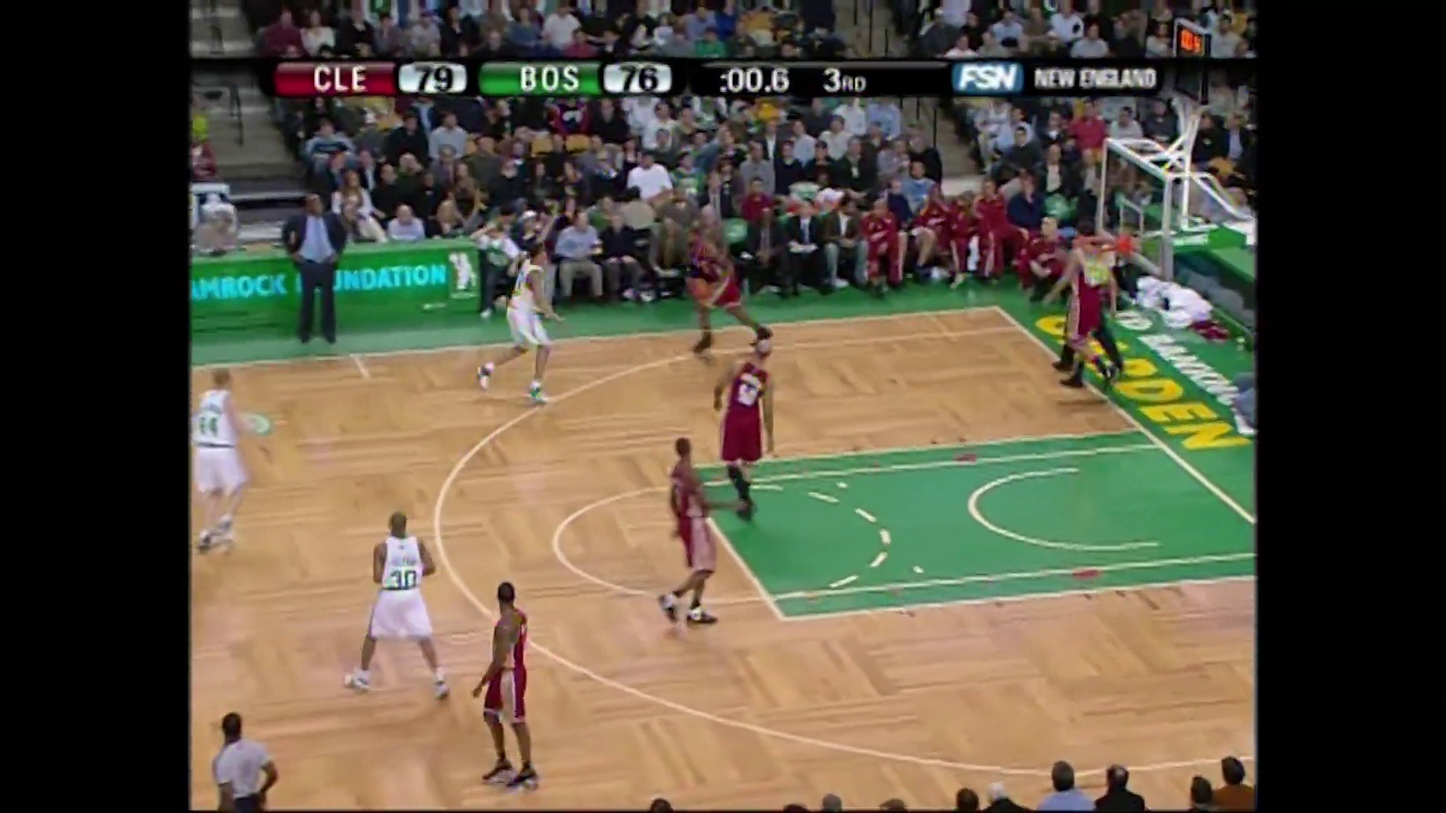basket_hoop: (1039, 129, 1192, 292)
